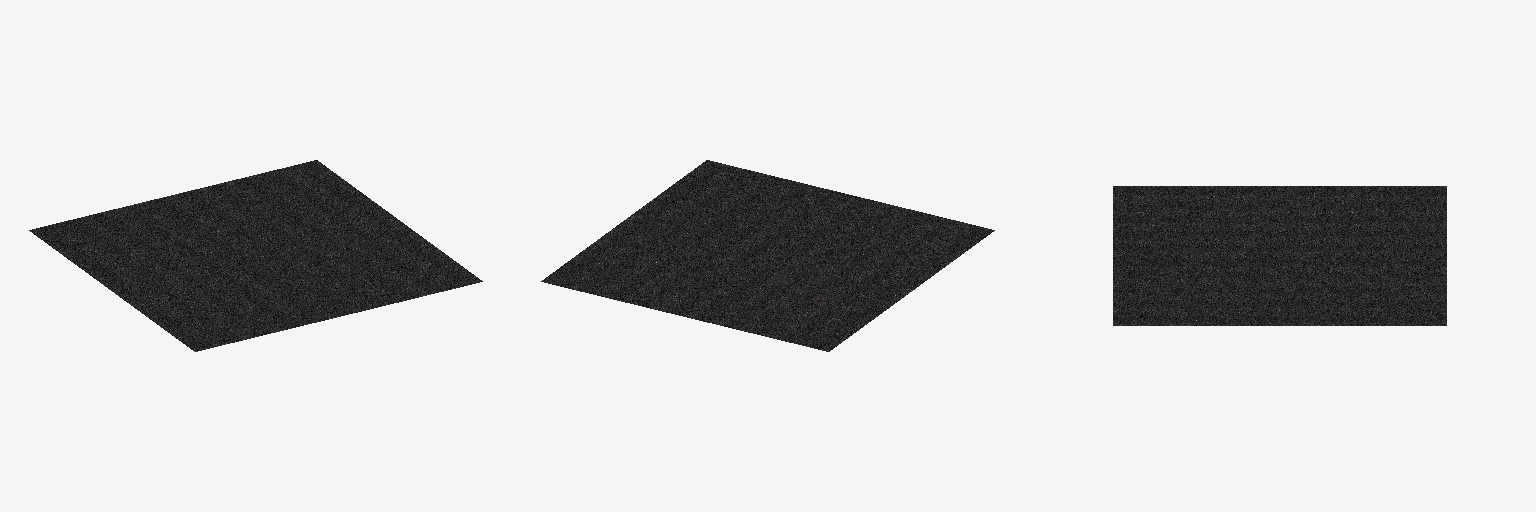
3 renders of one model, left to right at view 1: azimuth 30°, elevation 25°; view 2: azimuth 150°, elevation 25°; view 3: azimuth 270°, elevation 25°, orthographic.
Visible parts, largest first — view 1: Plane; view 2: Plane; view 3: Plane.
Part boxes in pixels (x1,y1,x2,y2): Plane: (29, 160, 482, 351); Plane: (541, 160, 994, 351); Plane: (1113, 186, 1446, 325).
Bounding box in the file's own units: 20 × 0 × 20.
1 materials, 1 textured.